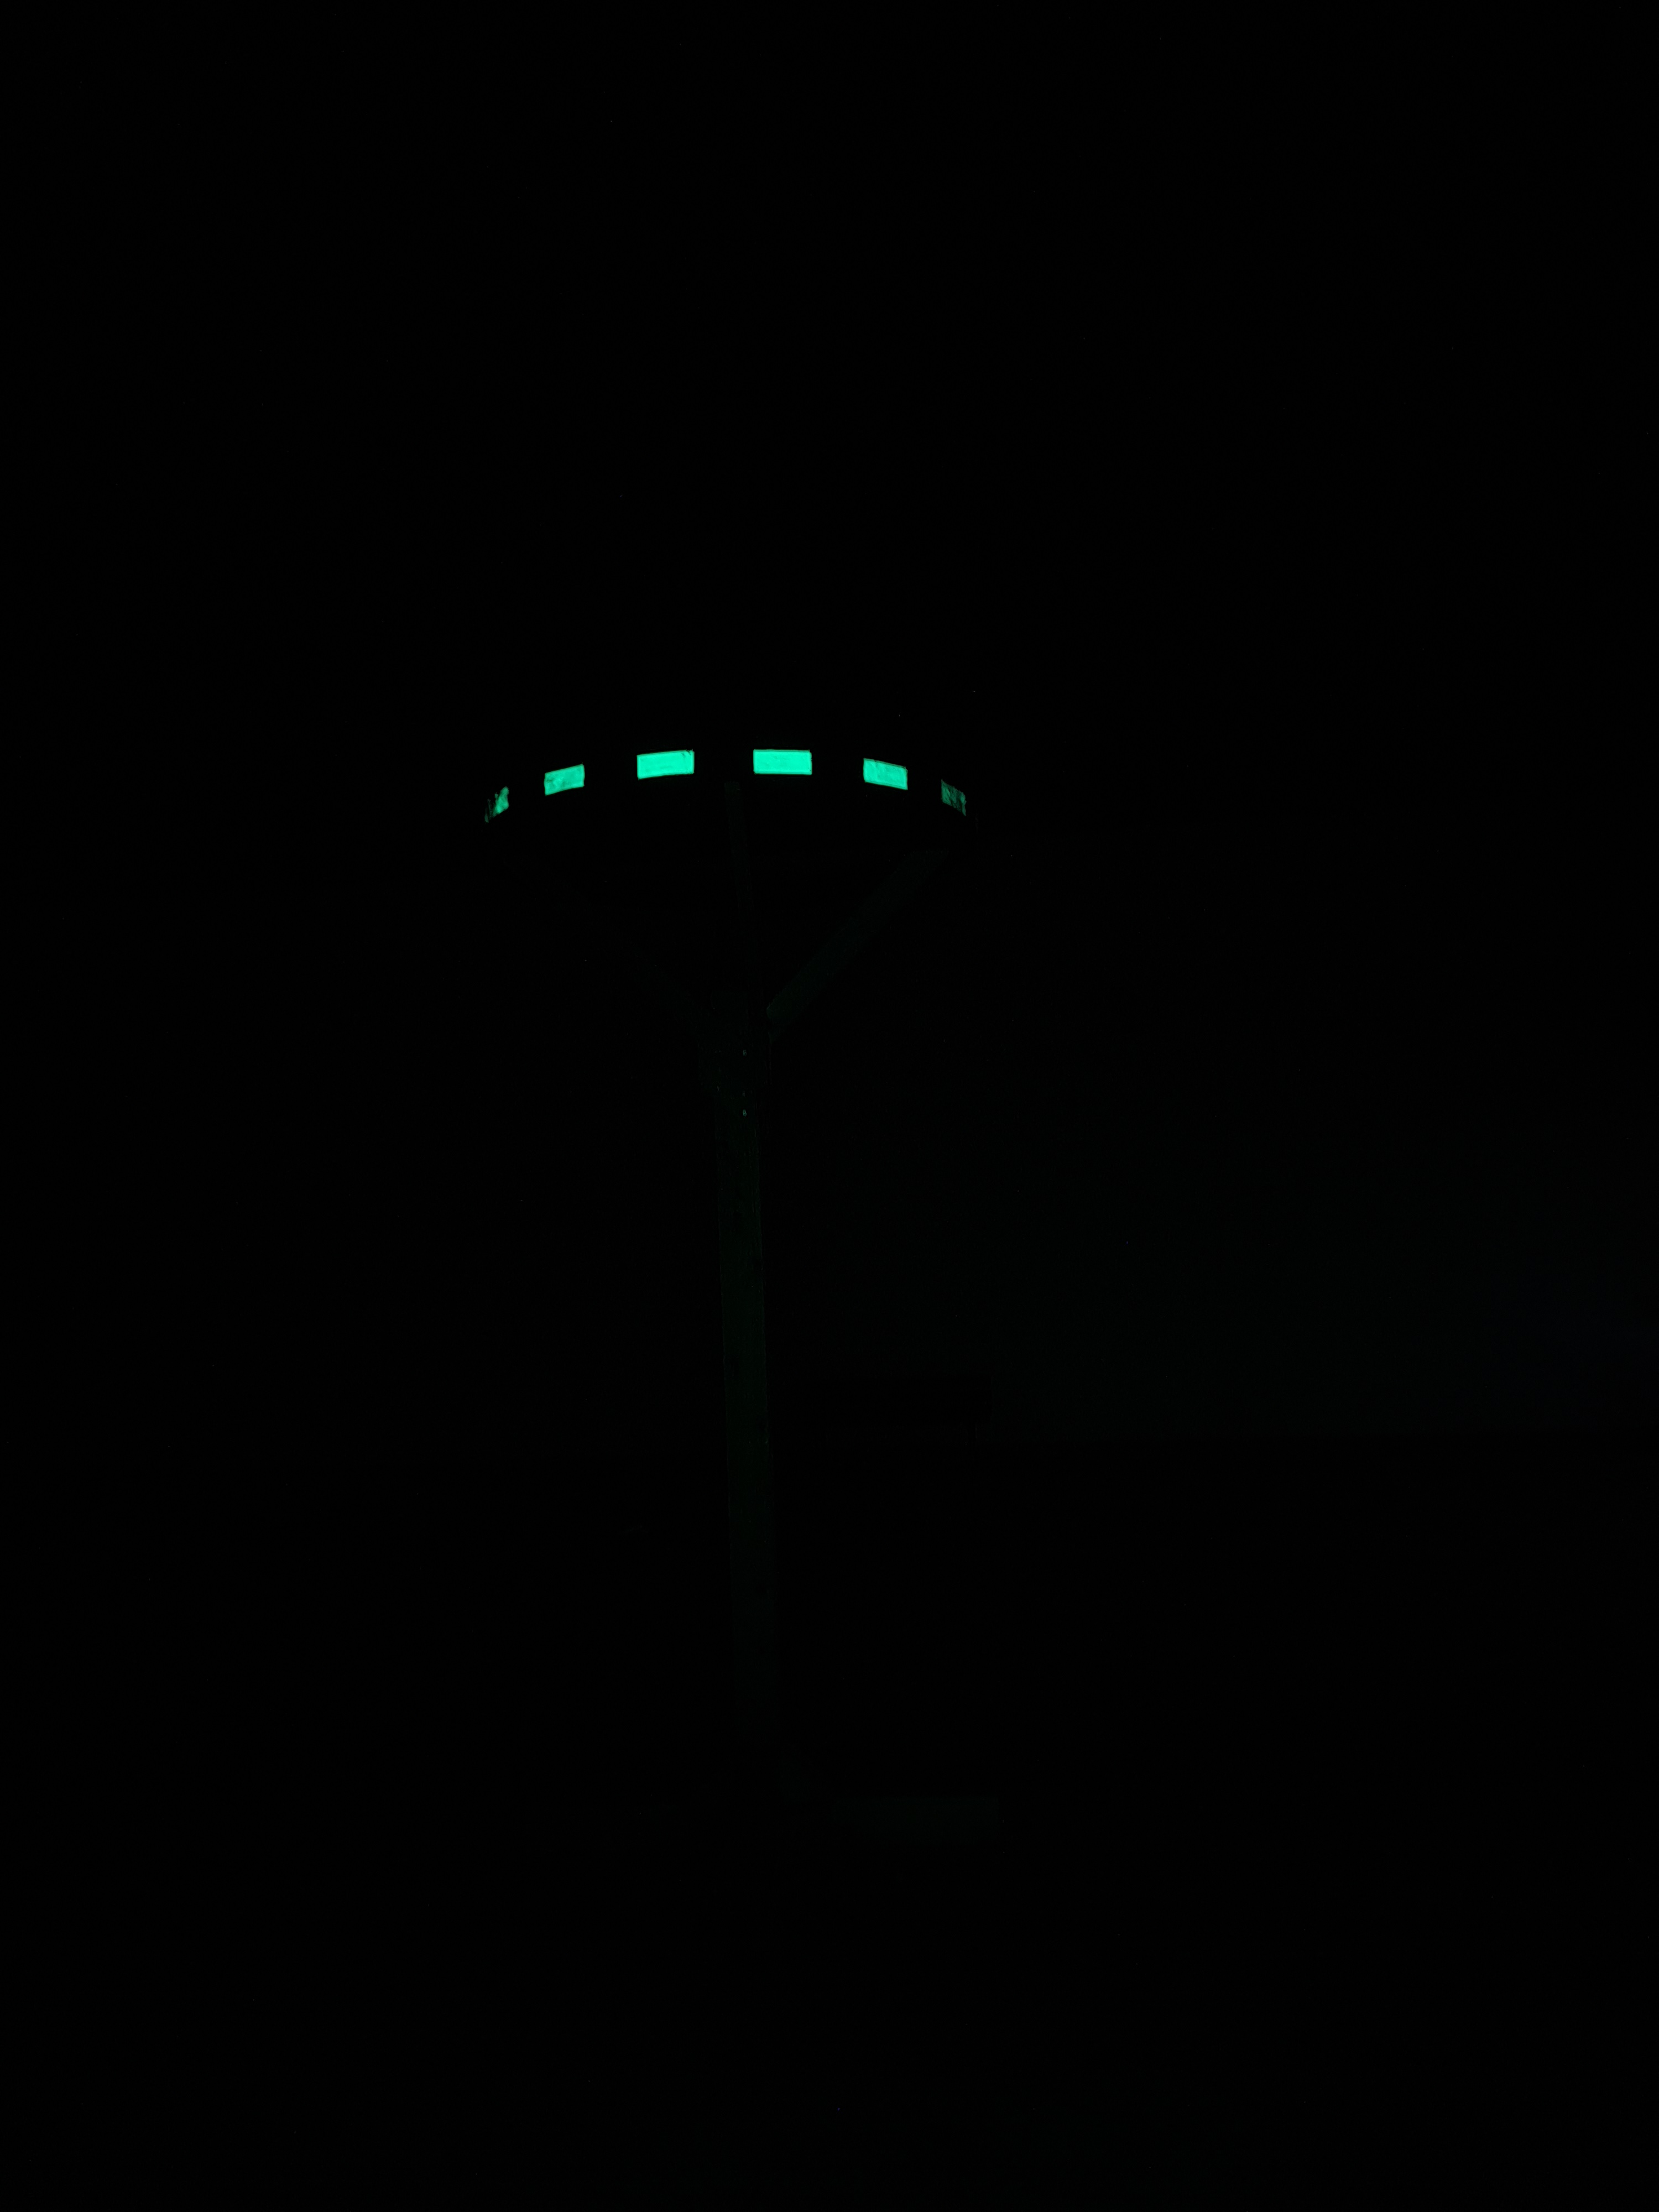hoop: (467, 745, 971, 843)
